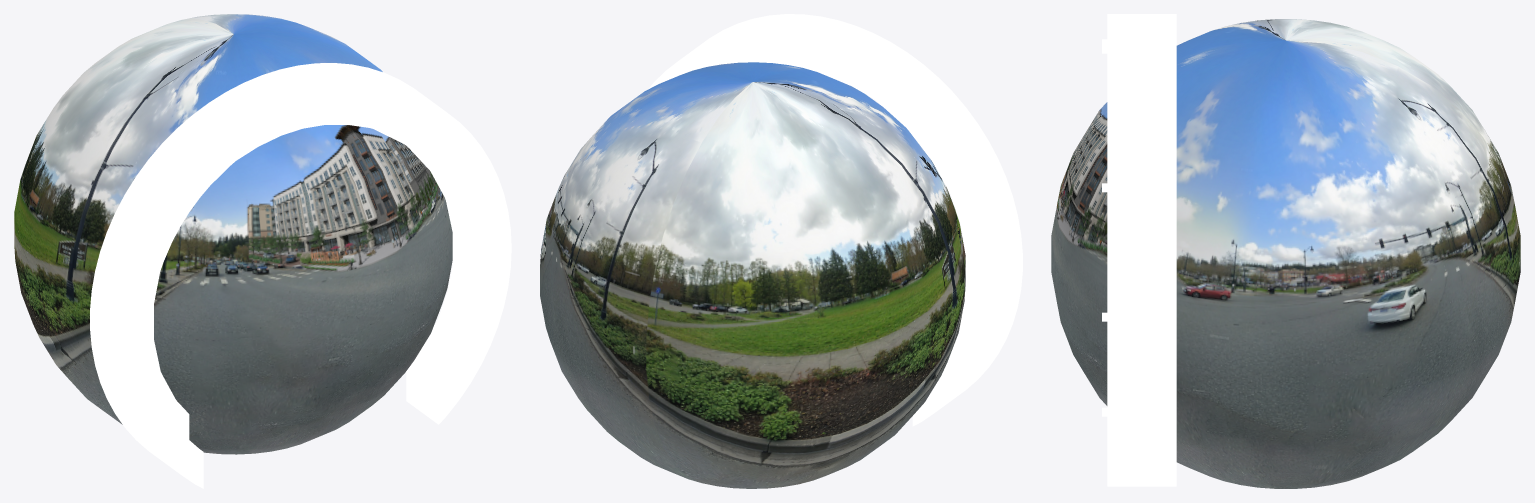
Rendered from enter_the_portal_new_cylinder_1.glb.
3 views of the same model, side by side, from view 1: azimuth 30°, elevation 25°; view 2: azimuth 150°, elevation 25°; view 3: azimuth 270°, elevation 25° (orthographic). The views are drawn at different scales.
Visible parts, largest first — view 1: Sphere008, Object010_12 - Default_0; view 2: Sphere008, Object010_12 - Default_0; view 3: Sphere008, Object010_12 - Default_0.
Boxes of the visible parts, <box> form: Sphere008: <box>14,14,452,454</box>; Object010_12 - Default_0: <box>90,63,511,488</box>; Sphere008: <box>540,62,965,488</box>; Object010_12 - Default_0: <box>648,14,1022,426</box>; Sphere008: <box>1051,19,1520,488</box>; Object010_12 - Default_0: <box>1102,14,1176,486</box>.
Bounding box in the file's own units: 3.84 × 3.8 × 3.75.
Materials: 2 (1 with a texture image).
